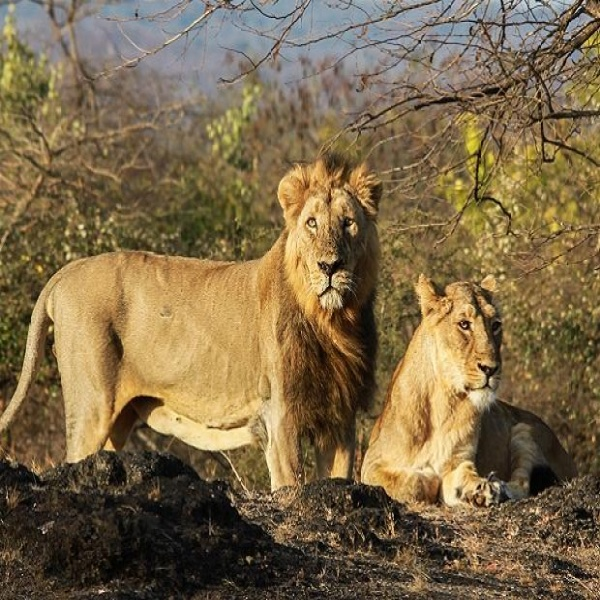Lion: (11, 150, 384, 495), (362, 269, 574, 507)
